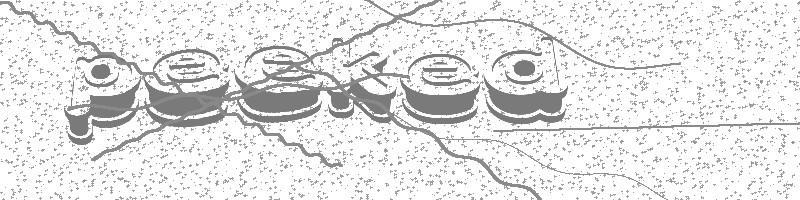d: (485, 37, 569, 123)
e: (235, 47, 324, 123), (145, 49, 229, 127), (402, 54, 480, 124)
k: (328, 38, 397, 123)
p: (65, 55, 140, 144)
